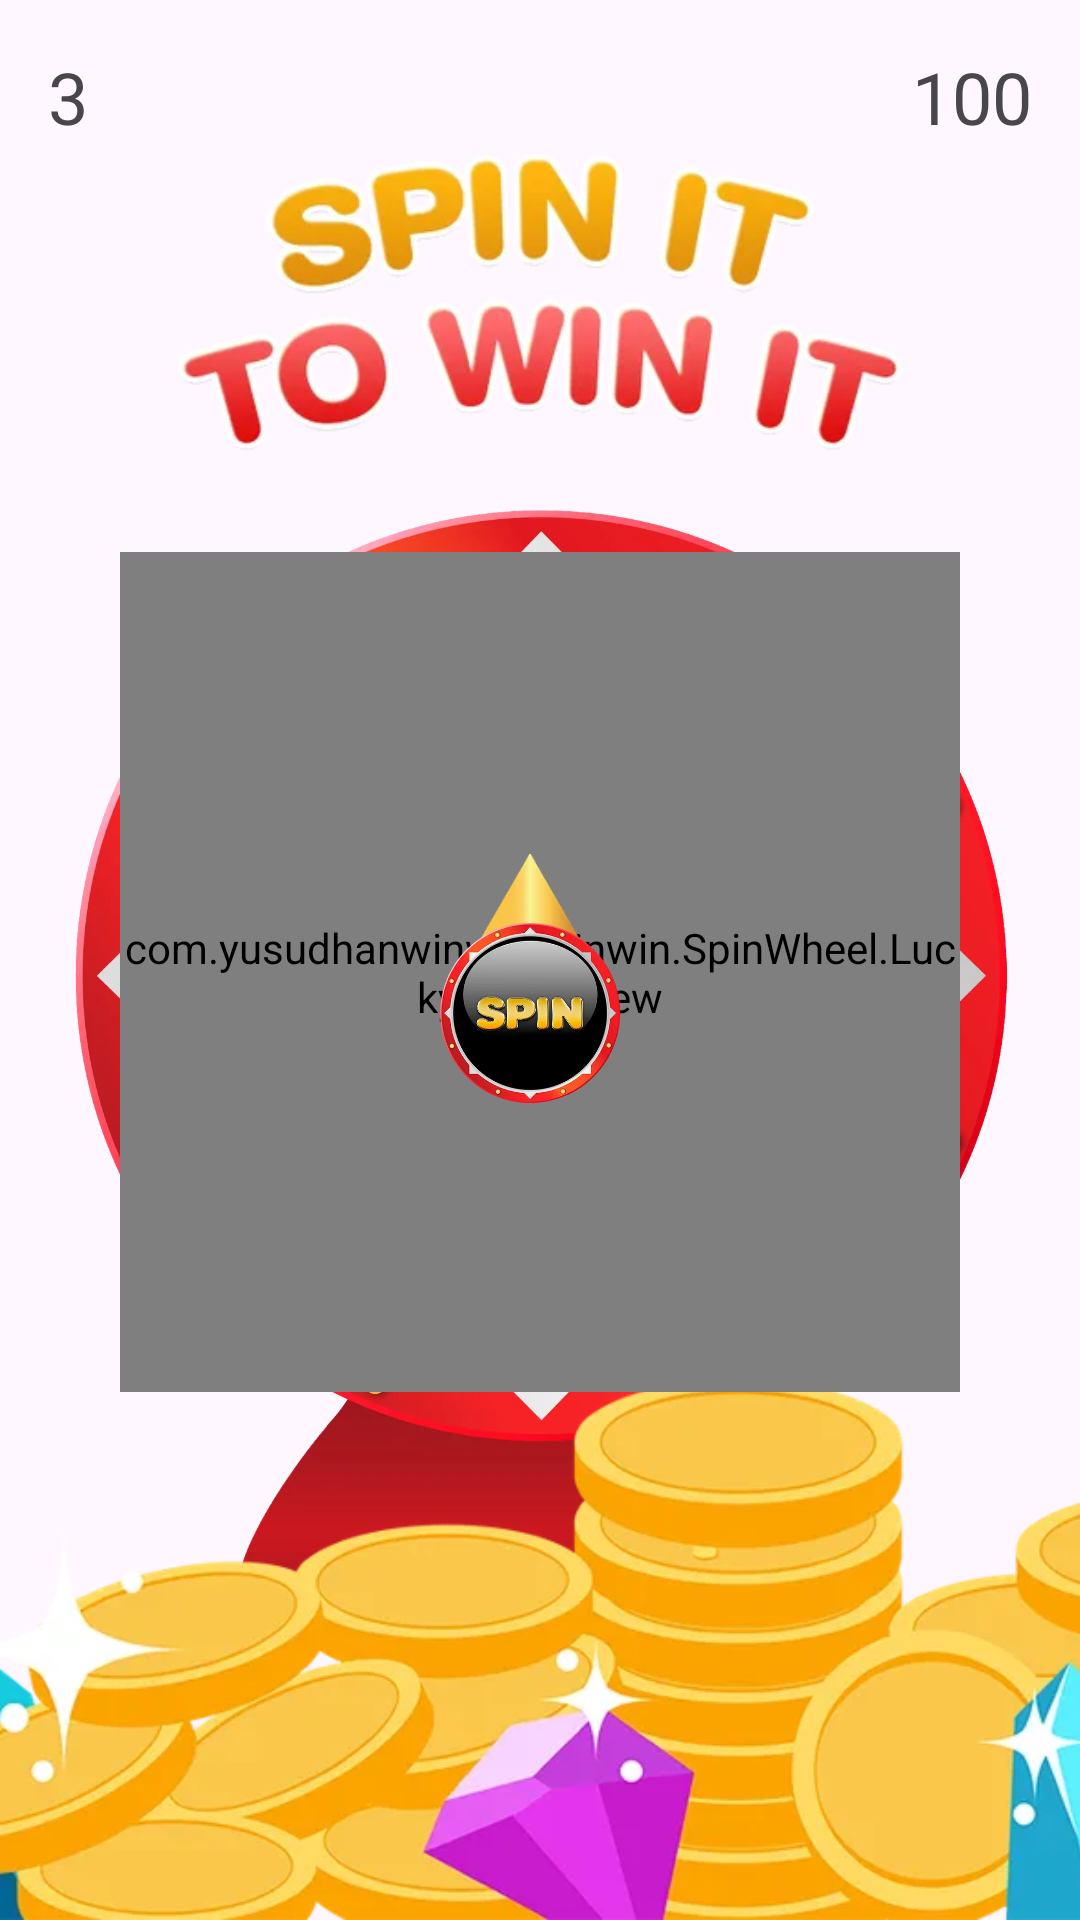

Named icons in this screenshot (1080x1920) and their centers, point (x, y):
spinpin: point (530, 909)
